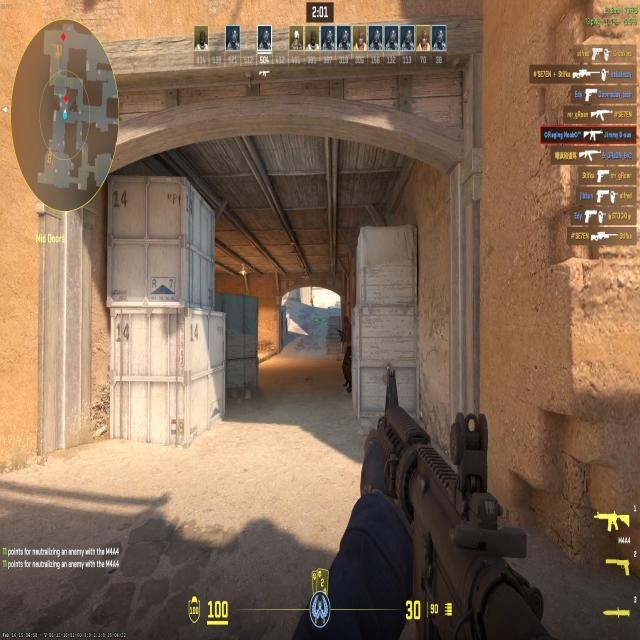player: (336, 314, 359, 394)
